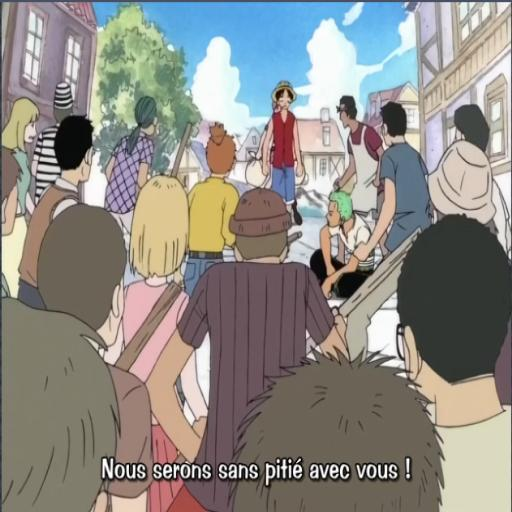Luffy: (262, 80, 308, 216)
Zoro: (310, 192, 376, 302)
